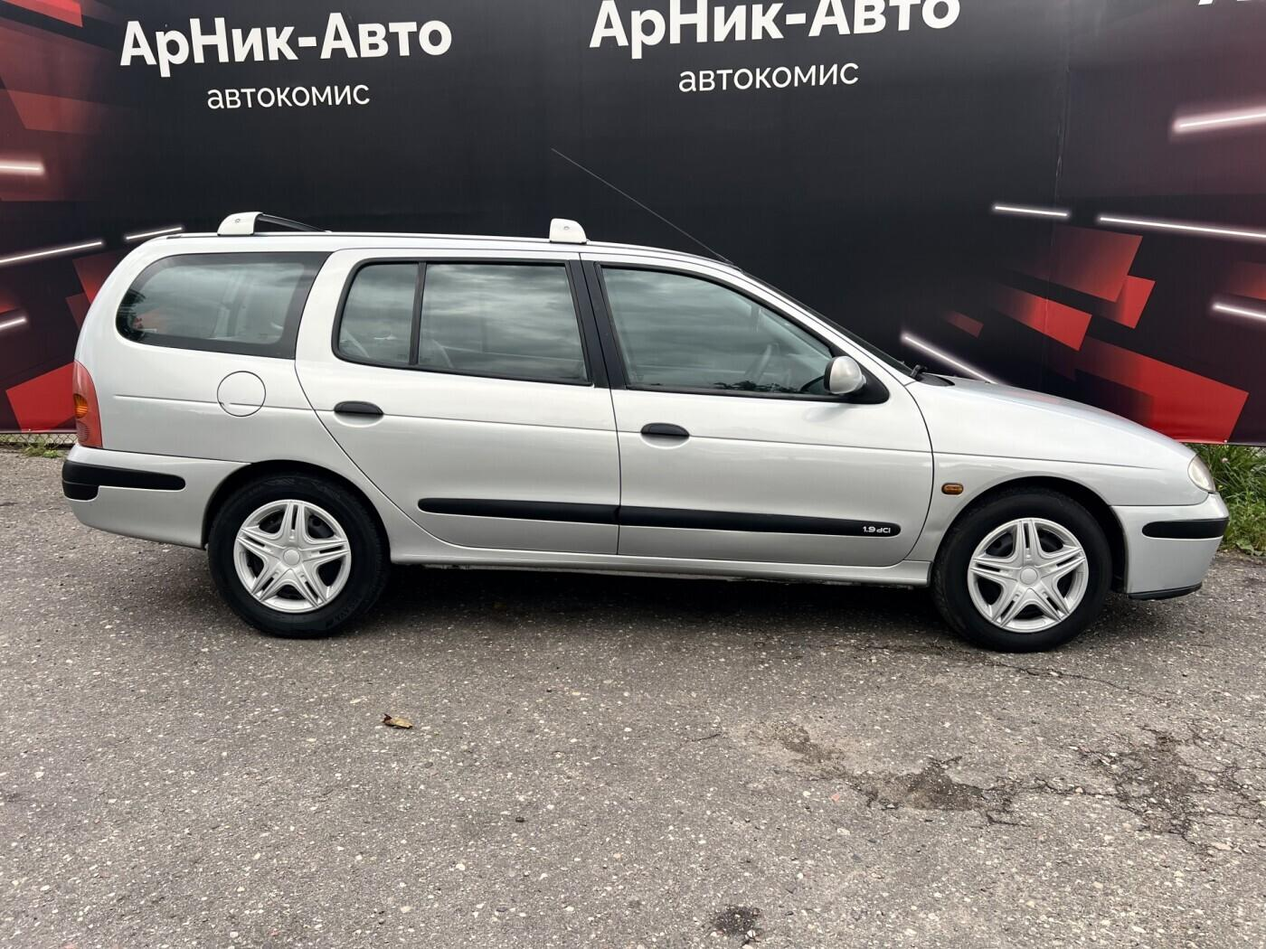Megane_1999-2003: (54, 226, 1235, 674)
